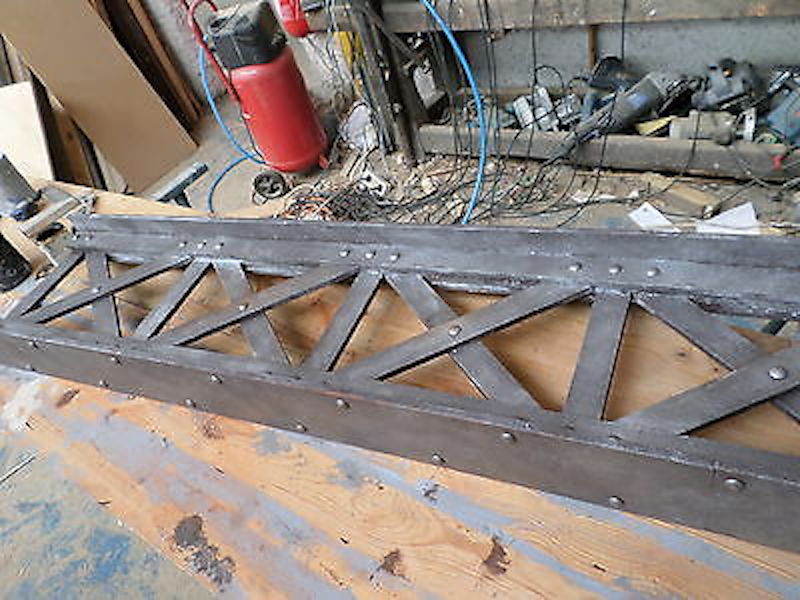rivet: (720, 476, 748, 494), (768, 363, 789, 383), (606, 493, 627, 512), (497, 429, 519, 447), (427, 450, 448, 467), (642, 264, 662, 281), (606, 261, 624, 278), (565, 260, 584, 274), (333, 397, 350, 412), (387, 248, 401, 266), (447, 324, 464, 338), (207, 372, 223, 386), (181, 396, 198, 408), (176, 238, 190, 252), (195, 239, 208, 254), (294, 424, 310, 436), (336, 246, 350, 259), (364, 248, 377, 262), (91, 284, 103, 298), (213, 240, 225, 253), (23, 361, 36, 373), (238, 301, 251, 313), (83, 233, 96, 244), (96, 378, 109, 389), (109, 356, 121, 367), (26, 339, 38, 350)
